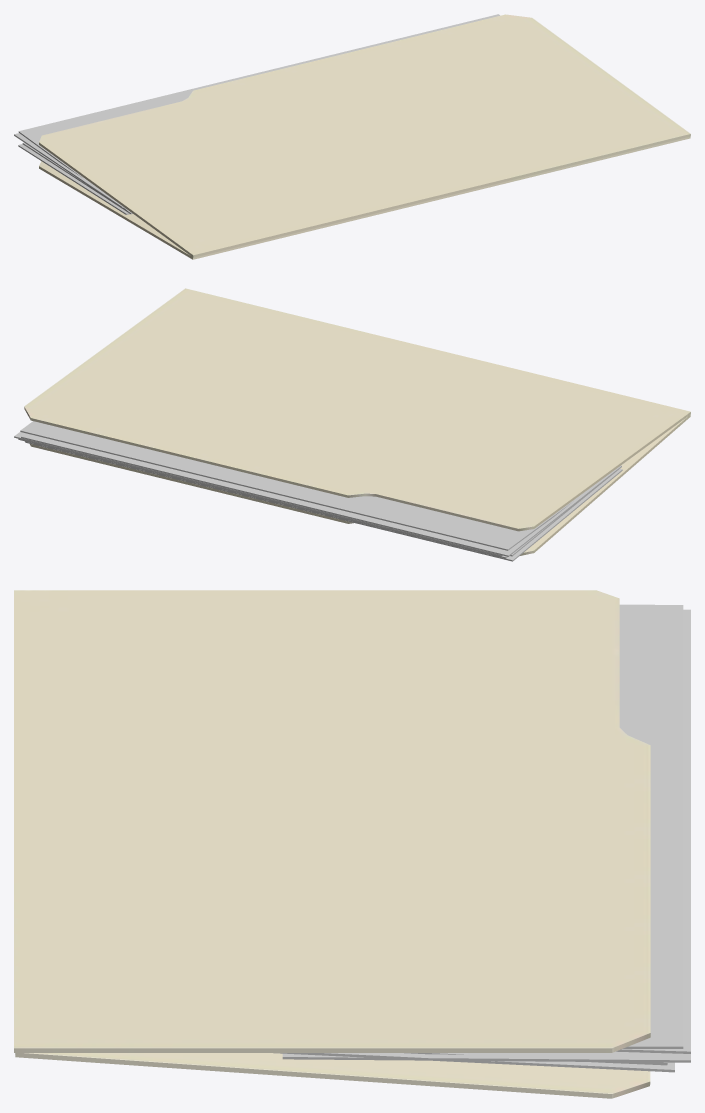
Rendered from manila-folder.glb.
The picture shows the model from 3 angles, top to bottom: view 1: azimuth 30°, elevation 25°; view 2: azimuth 150°, elevation 25°; view 3: azimuth 270°, elevation 25°; orthographic projection. The views are drawn at different scales.
Parts seen in each view (by area): view 1: pCube10; view 2: pCube10; view 3: pCube10.
Boxes of the visible parts, x1,y1,x2,y2 form: pCube10: [14, 14, 690, 259]; pCube10: [14, 288, 690, 561]; pCube10: [14, 590, 690, 1098].
Size of the model in its own units: 0.32 by 0.0173 by 0.1999.
Materials: 2 (1 with a texture image).
